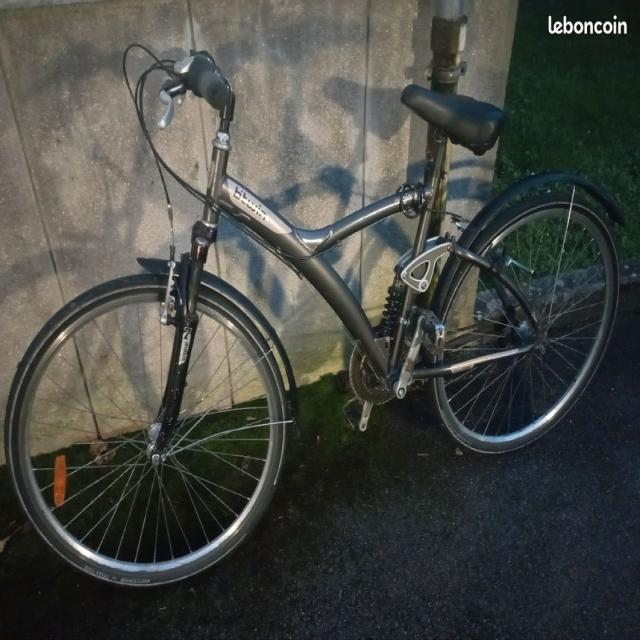Bike: (6, 0, 623, 586)
